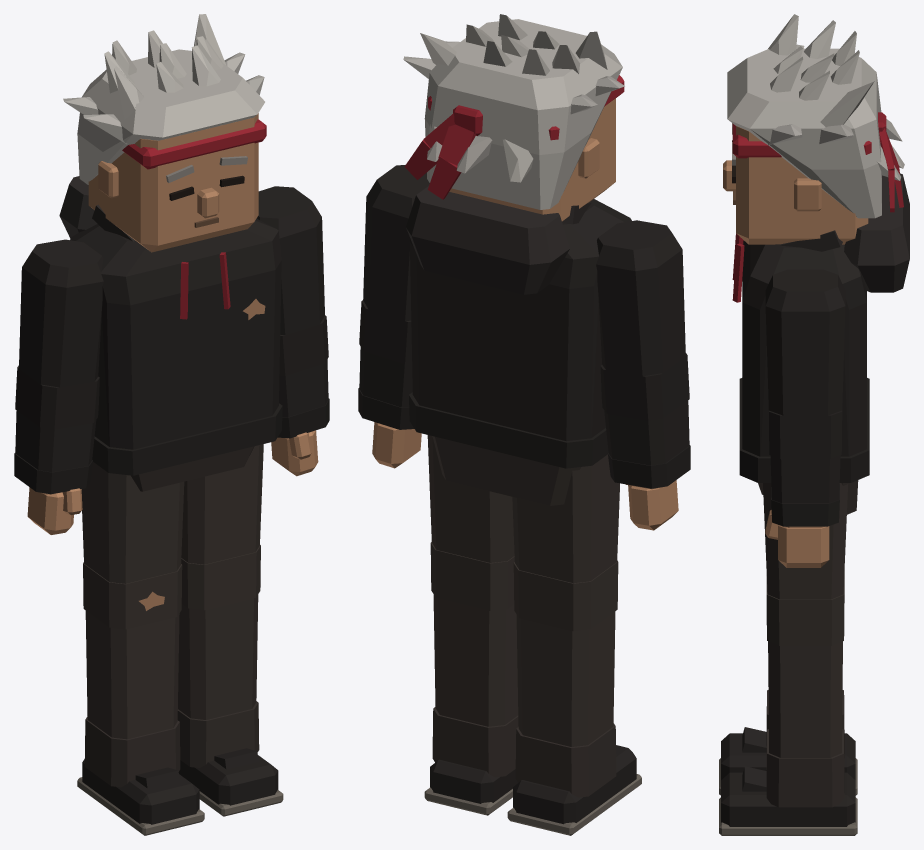
File: tl_char_fan_headband_v01.glb
3 views of the same model, side by side, from view 1: azimuth 30°, elevation 25°; view 2: azimuth 150°, elevation 25°; view 3: azimuth 270°, elevation 25° (orthographic). The views are drawn at different scales.
Parts seen in each view (by area): view 1: spine, head, leg_lower_r, leg_lower_l, arm_upper_r, arm_lower_r, leg_upper_r, leg_upper_l, arm_lower_l, arm_upper_l, hips; view 2: spine, head, leg_lower_r, leg_lower_l, arm_upper_r, arm_lower_r, leg_upper_r, arm_lower_l, arm_upper_l, leg_upper_l, hips; view 3: head, leg_lower_l, spine, arm_upper_l, arm_lower_l, leg_upper_l, leg_lower_r, hips.
Part boxes in pixels (box(x1,y1,x2,y2)): spine: box(59, 176, 282, 475); head: box(63, 14, 266, 252); leg_lower_r: box(77, 562, 204, 835); leg_lower_l: box(177, 545, 283, 816); arm_upper_r: box(19, 239, 103, 387); arm_lower_r: box(14, 365, 99, 534); leg_upper_r: box(81, 462, 184, 583); leg_upper_l: box(181, 444, 263, 564); arm_lower_l: box(271, 315, 329, 476); arm_upper_l: box(257, 186, 324, 335); hips: box(131, 446, 254, 491); spine: box(406, 186, 631, 468); head: box(403, 14, 624, 221); leg_lower_r: box(507, 560, 641, 835); leg_lower_l: box(424, 542, 518, 815); arm_upper_r: box(596, 220, 685, 376); arm_lower_r: box(600, 353, 690, 530); leg_upper_r: box(512, 454, 619, 583); arm_lower_l: box(358, 300, 421, 468); arm_upper_l: box(363, 165, 429, 321); leg_upper_l: box(427, 435, 514, 562); hips: box(432, 436, 580, 505); head: box(723, 14, 904, 244); leg_lower_l: box(719, 571, 857, 835); spine: box(732, 173, 909, 482); arm_upper_l: box(765, 269, 845, 415); arm_lower_l: box(765, 410, 842, 567); leg_upper_l: box(763, 483, 847, 599); leg_lower_r: box(719, 690, 857, 795); hips: box(758, 480, 858, 514).
Size of the model in its own units: 0.7457 by 1.8 by 0.4105.
